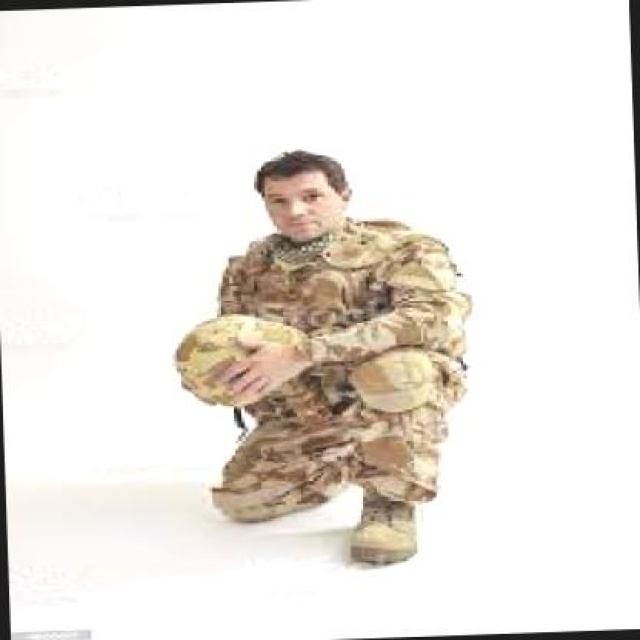MIL_Pax: (162, 141, 482, 581)
